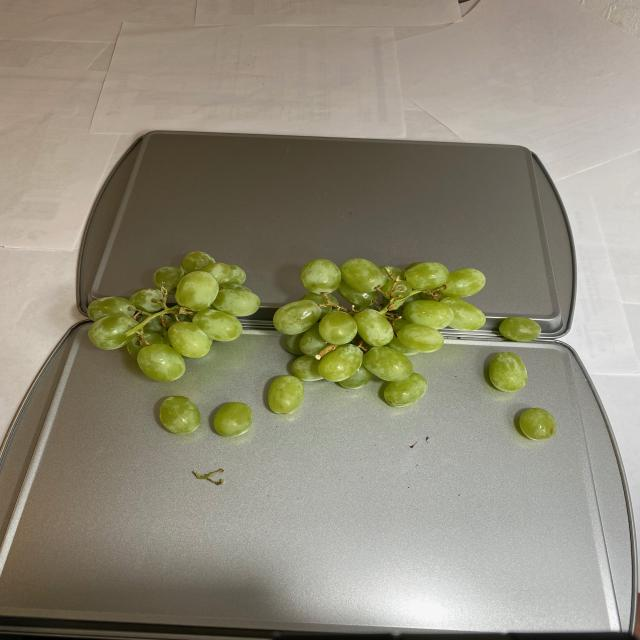grapes: (87, 253, 557, 446)
